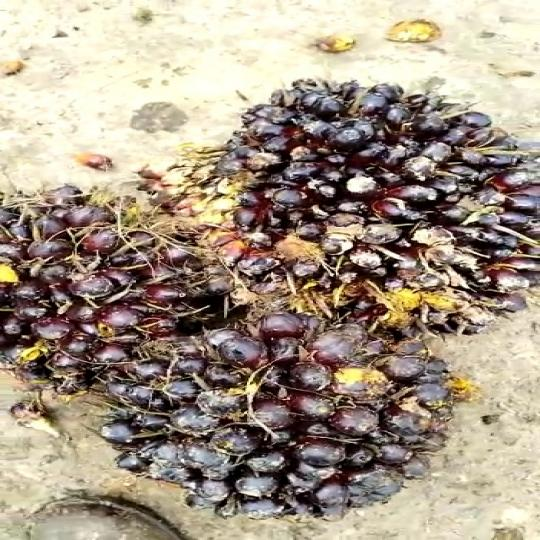mentah: (170, 70, 540, 339), (99, 312, 467, 513), (0, 176, 228, 387)
